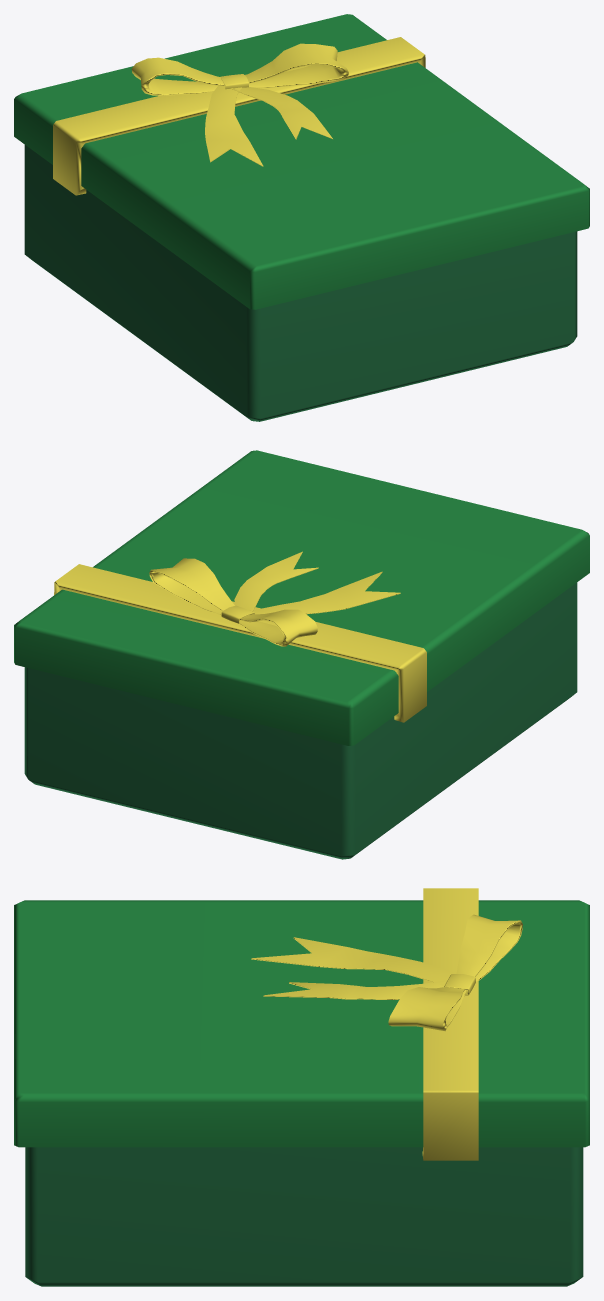
The model's file is product_box.fbx.
3 renders of one model, top to bottom at view 1: azimuth 30°, elevation 25°; view 2: azimuth 150°, elevation 25°; view 3: azimuth 270°, elevation 25°, orthographic. The views are drawn at different scales.
Parts seen in each view (by area): view 1: top_box_mesh, bot_box_mesh, bowtie_mesh; view 2: top_box_mesh, bot_box_mesh, bowtie_mesh; view 3: top_box_mesh, bot_box_mesh, bowtie_mesh.
Boxes of the visible parts, box(x1,y1,x2,y2) form: top_box_mesh: box(14, 14, 589, 309); bot_box_mesh: box(24, 145, 577, 421); bowtie_mesh: box(131, 43, 348, 166); top_box_mesh: box(14, 450, 589, 745); bot_box_mesh: box(24, 582, 577, 859); bowtie_mesh: box(149, 551, 400, 646); top_box_mesh: box(14, 888, 589, 1160); bot_box_mesh: box(25, 1147, 583, 1286); bowtie_mesh: box(251, 914, 522, 1031).
Bounding box in the file's own units: 13.57 × 7.24 × 16.07.
